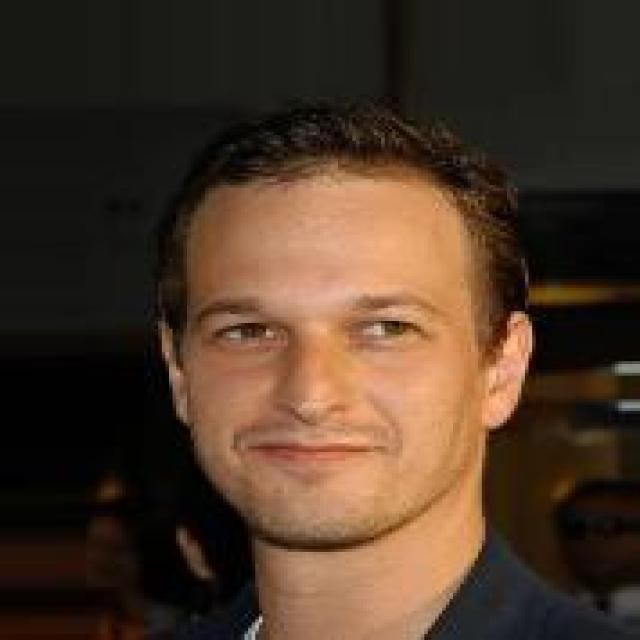bareface: (172, 112, 512, 533)
